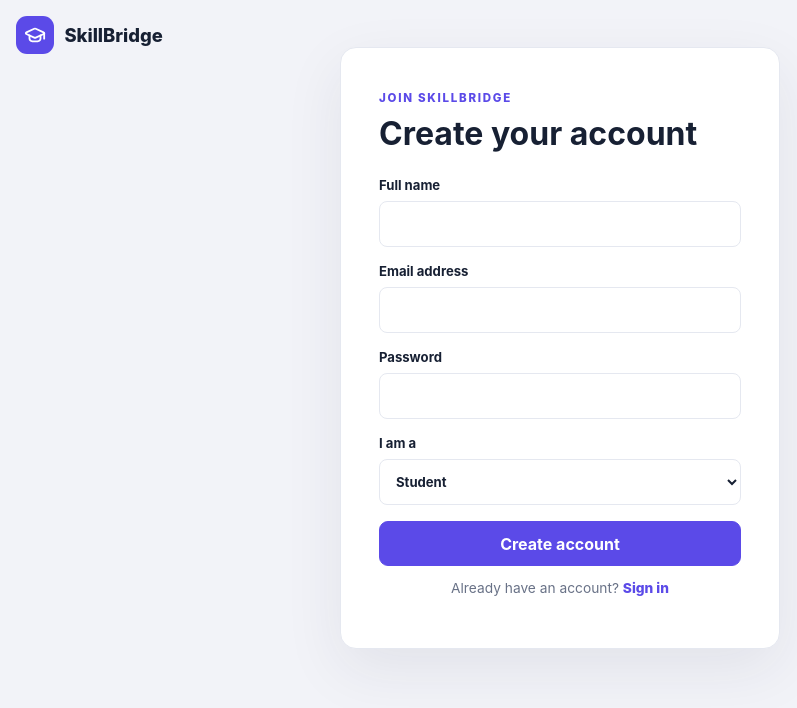
Test: application workflows › keeps new accounts signed out until email verification
In the field labelled "Full name": point(560, 224) [379,201,741,247], type "Ava Student"
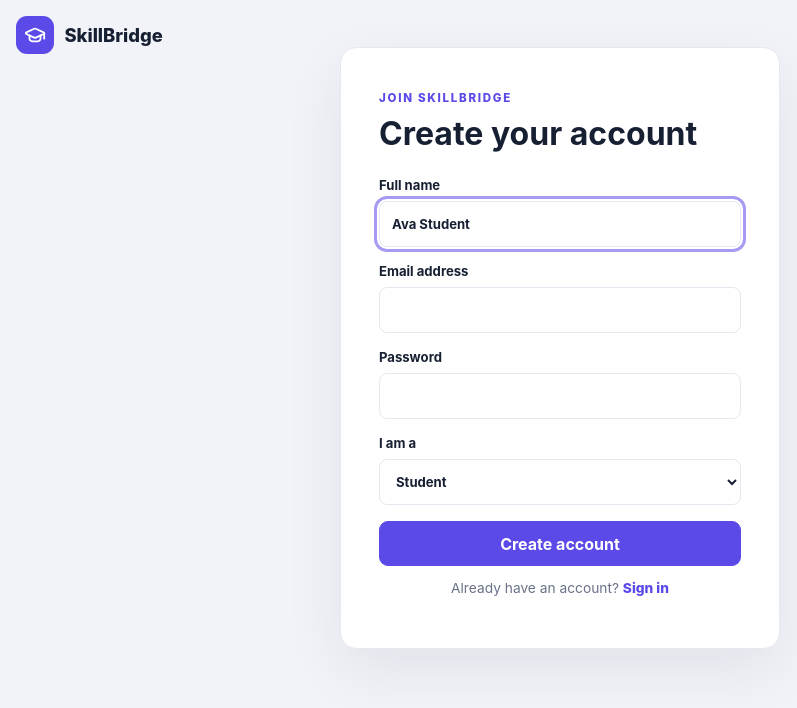
In the field labelled "Email address": point(560, 310) [379,287,741,333], type "ava@example.test"
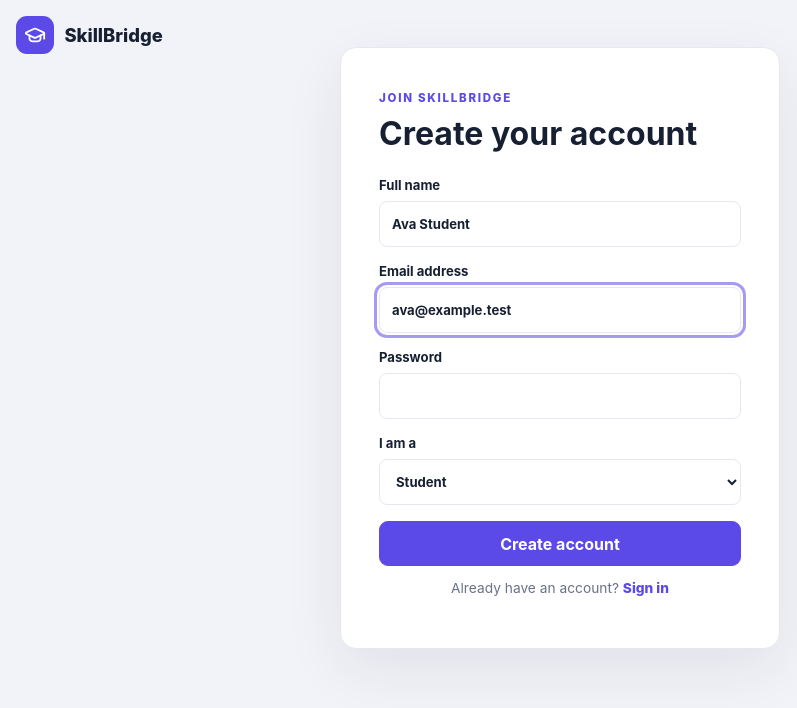
In the password field labelled "Password": point(560, 396) [379,373,741,419], type "password123"
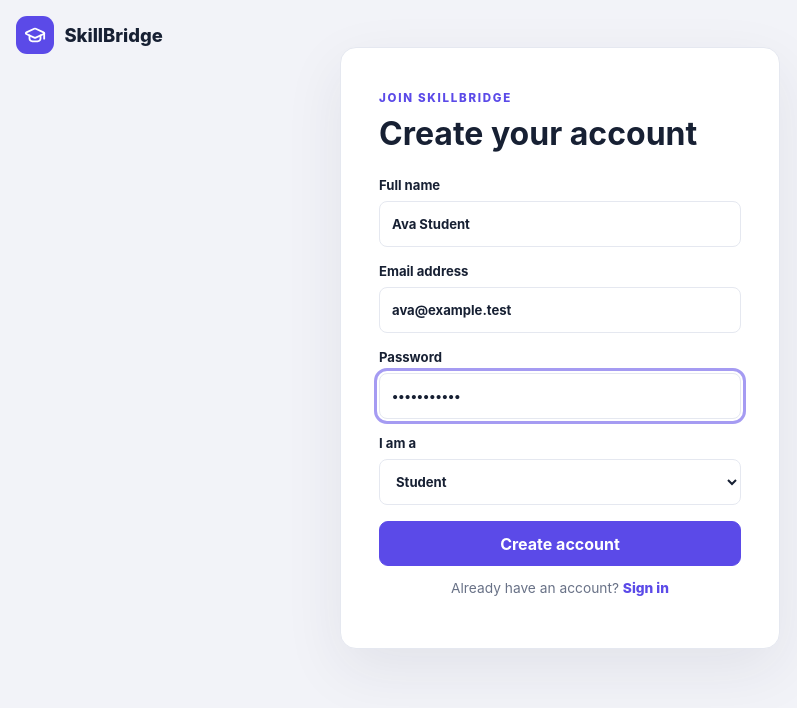
Click the button "Create account": point(560, 544) [379,521,741,566]
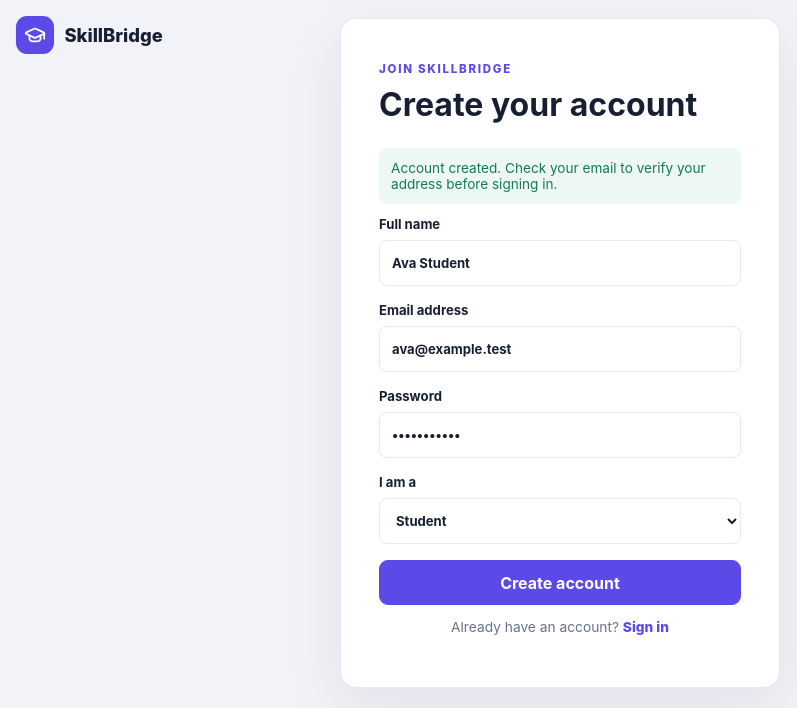
Now the message shows "verify your address", box [391,160,706,192]
